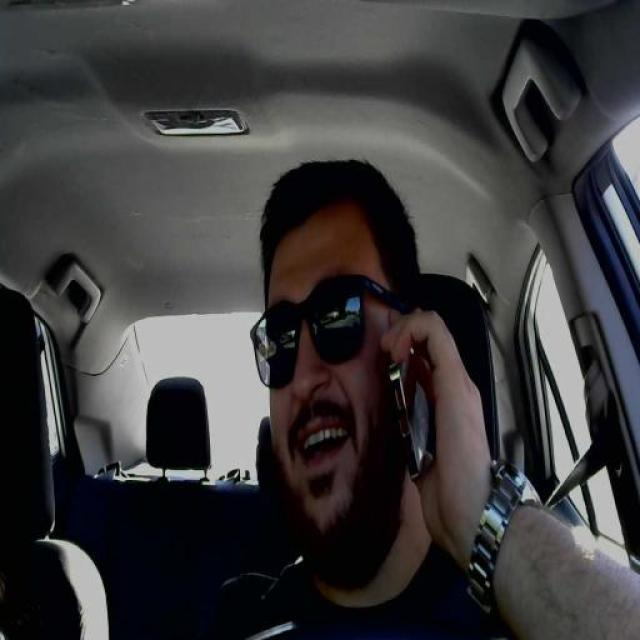phone: (389, 316, 455, 477)
